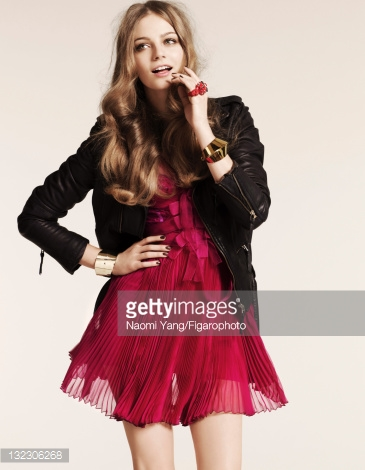em pe: (26, 0, 273, 470)
